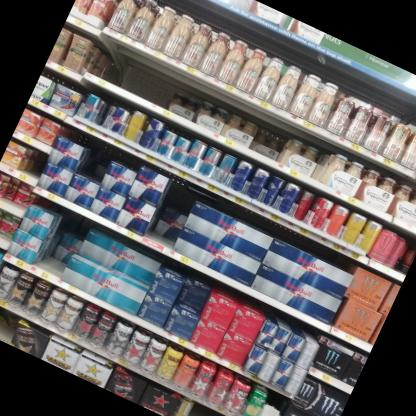empty_space: (90, 40, 181, 115), (186, 401, 245, 416)
